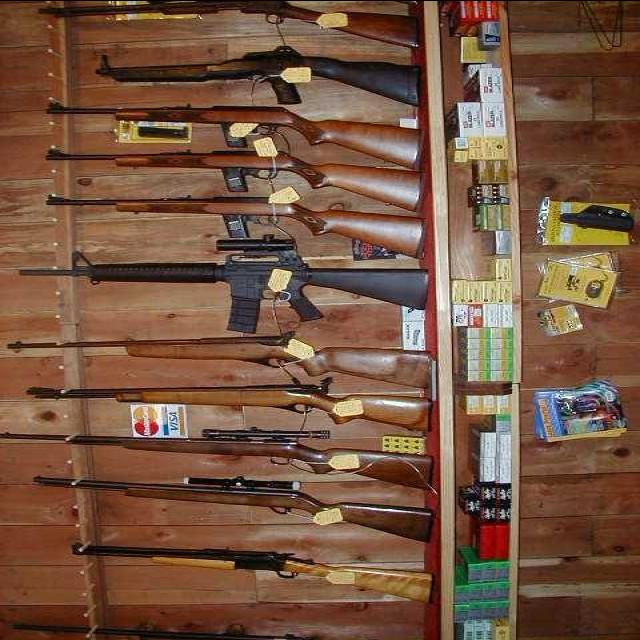heavyweapon: (6, 223, 432, 332), (1, 414, 441, 498), (43, 86, 427, 174), (54, 531, 436, 616), (24, 466, 432, 543), (29, 184, 431, 260), (1, 330, 462, 394), (3, 367, 447, 431), (41, 135, 423, 209), (76, 43, 446, 108), (34, 1, 432, 35)
